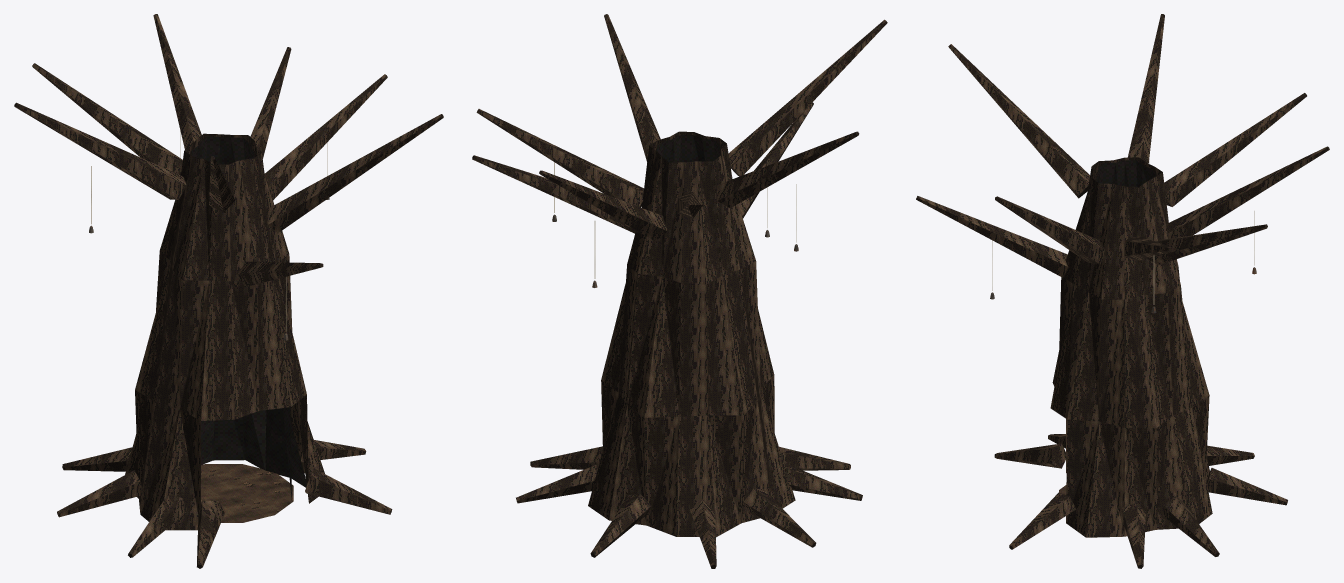
Rendered from arbol_hueco.obj.
3 renders of one model, left to right at view 1: azimuth 30°, elevation 25°; view 2: azimuth 150°, elevation 25°; view 3: azimuth 270°, elevation 25°, orthographic. The views are drawn at different scales.
Visible parts, largest first — view 1: arbol_hueco; view 2: arbol_hueco; view 3: arbol_hueco.
Boxes of the visible parts, <box> form: arbol_hueco: <box>14,14,443,568</box>; arbol_hueco: <box>472,14,887,568</box>; arbol_hueco: <box>916,14,1329,568</box>.
Size of the model in its own units: 10.83 by 11.92 by 10.92.
5 materials, 5 textured.
